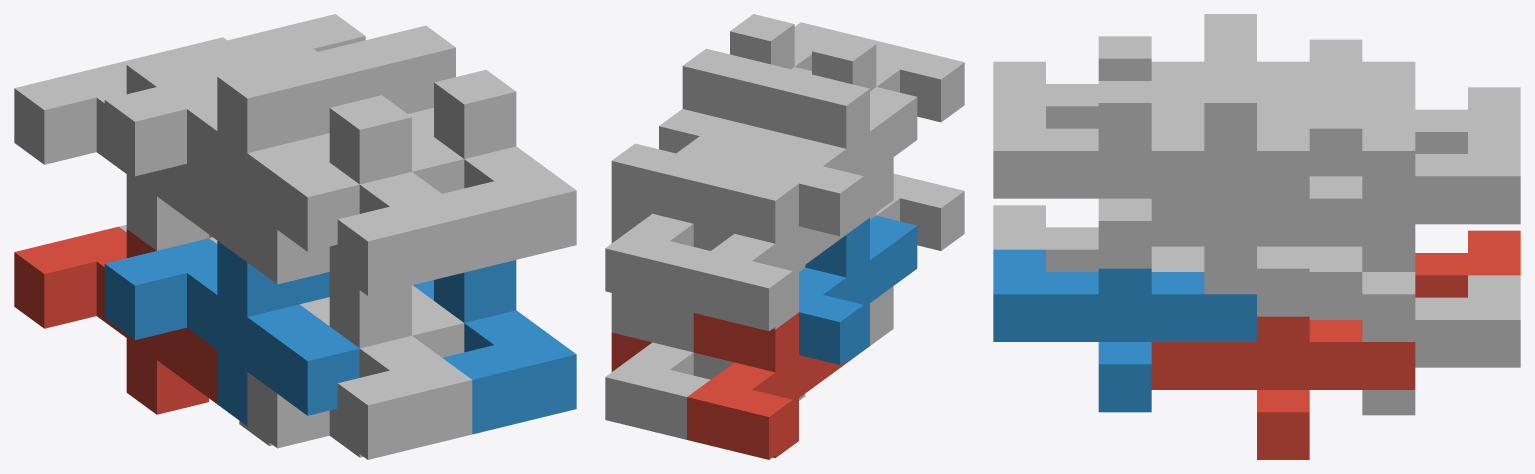
Rendered from tiling.obj.
3 views of the same model, side by side, from view 1: azimuth 30°, elevation 25°; view 2: azimuth 150°, elevation 25°; view 3: azimuth 270°, elevation 25° (orthographic). The views are drawn at different scales.
Visible parts, largest first — view 1: copy_1_domain_4, copy_1_domain_2, copy_2_domain_4, copy_1_domain_3, copy_2_domain_2, copy_2_domain_8, copy_1_domain_1, copy_2_domain_6, copy_1_domain_8, copy_1_domain_7, copy_2_domain_1, copy_2_domain_3 (+1 smaller); view 2: copy_1_domain_4, copy_1_domain_3, copy_1_domain_1, copy_1_domain_7, copy_1_domain_2, copy_1_domain_5, copy_1_domain_8, copy_2_domain_4, copy_2_domain_2, copy_2_domain_8, copy_2_domain_3, copy_2_domain_7 (+2 smaller); view 3: copy_2_domain_8, copy_2_domain_6, copy_2_domain_7, copy_2_domain_5, copy_1_domain_7, copy_1_domain_5, copy_1_domain_8, copy_2_domain_4, copy_1_domain_6, copy_1_domain_3, copy_1_domain_4, copy_2_domain_2 (+2 smaller).
Part boxes in pixels (bbox=[...]): copy_1_domain_4: bbox=[104, 51, 359, 261]; copy_1_domain_2: bbox=[104, 238, 359, 425]; copy_2_domain_4: bbox=[300, 95, 472, 295]; copy_1_domain_3: bbox=[14, 39, 260, 250]; copy_2_domain_2: bbox=[300, 272, 472, 459]; copy_2_domain_8: bbox=[408, 69, 576, 270]; copy_1_domain_1: bbox=[14, 226, 217, 414]; copy_2_domain_6: bbox=[413, 260, 576, 434]; copy_1_domain_8: bbox=[209, 25, 464, 193]; copy_1_domain_7: bbox=[119, 14, 365, 68]; copy_2_domain_1: bbox=[239, 372, 329, 448]; copy_2_domain_3: bbox=[247, 208, 329, 284]; copy_1_domain_4: bbox=[758, 68, 917, 236]; copy_1_domain_3: bbox=[687, 163, 846, 330]; copy_1_domain_1: bbox=[687, 312, 846, 459]; copy_1_domain_7: bbox=[605, 143, 716, 310]; copy_1_domain_2: bbox=[799, 215, 917, 364]; copy_1_domain_5: bbox=[605, 293, 710, 439]; copy_1_domain_8: bbox=[676, 48, 811, 173]; copy_2_domain_4: bbox=[812, 34, 964, 122]; copy_2_domain_2: bbox=[870, 173, 964, 250]; copy_2_domain_8: bbox=[730, 14, 882, 70]; copy_2_domain_3: bbox=[693, 129, 893, 271]; copy_2_domain_7: bbox=[611, 109, 722, 243]; copy_2_domain_8: bbox=[993, 81, 1256, 268]; copy_2_domain_6: bbox=[993, 249, 1256, 412]; copy_2_domain_7: bbox=[1151, 128, 1415, 316]; copy_2_domain_5: bbox=[1151, 316, 1415, 459]; copy_1_domain_7: bbox=[1362, 106, 1520, 271]; copy_1_domain_5: bbox=[1362, 272, 1520, 415]; copy_1_domain_8: bbox=[1151, 58, 1362, 176]; copy_2_domain_4: bbox=[993, 36, 1204, 128]; copy_1_domain_6: bbox=[1151, 246, 1362, 319]; copy_1_domain_3: bbox=[1362, 61, 1520, 153]; copy_1_domain_4: bbox=[1151, 14, 1362, 83]; copy_2_domain_2: bbox=[993, 205, 1204, 271].
Bounding box in the file's own units: 6 × 7 × 10.
